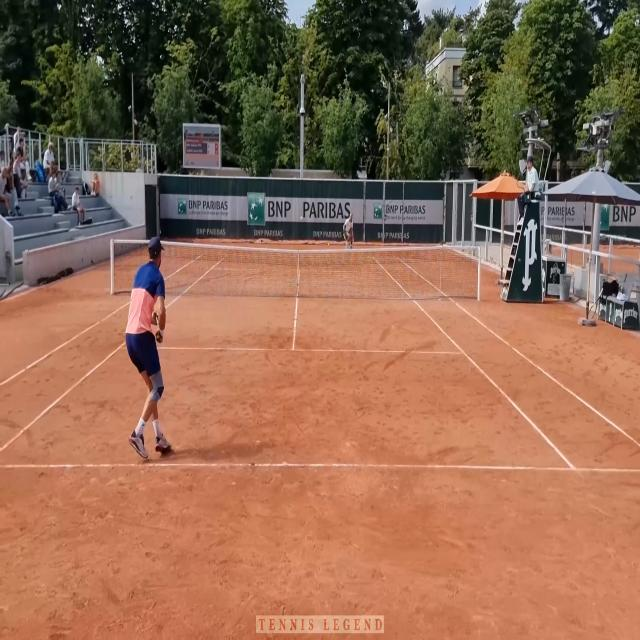ball: (300, 216, 303, 221), (328, 243, 329, 246)
